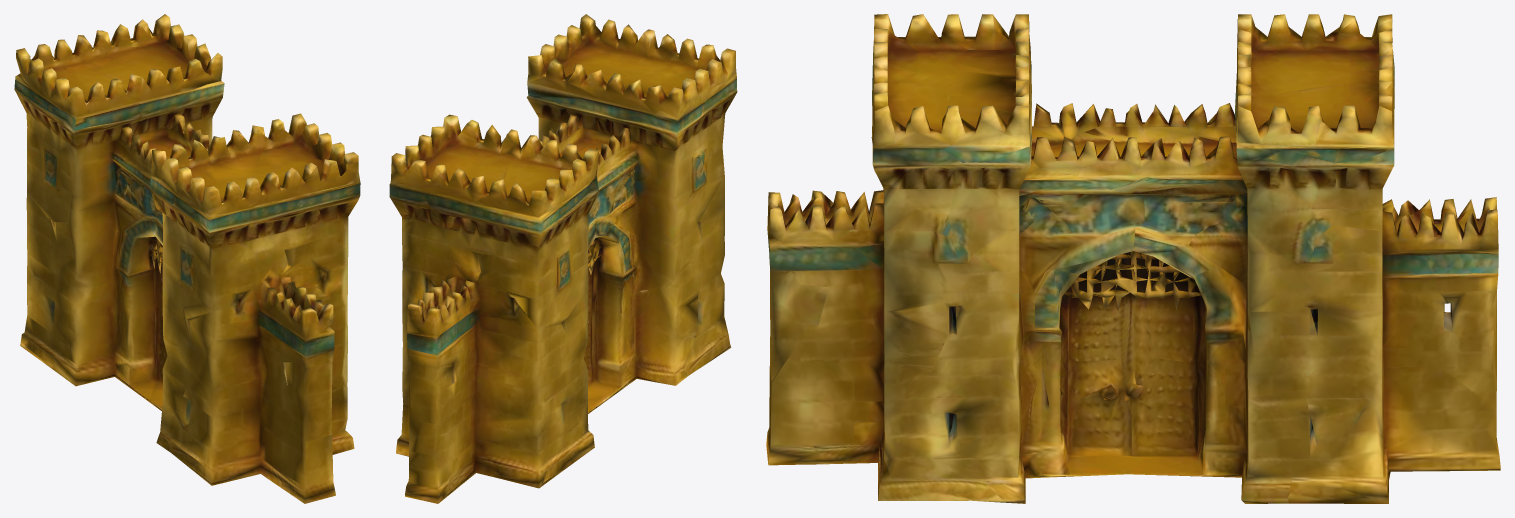
The model's file is castle_gate_gold.glb.
3 renders of one model, left to right at view 1: azimuth 30°, elevation 25°; view 2: azimuth 150°, elevation 25°; view 3: azimuth 270°, elevation 25°, orthographic. The views are drawn at different scales.
Parts seen in each view (by area): view 1: tripo_node_6839004b-7382-44ca-bf7b-c0f1d9af2ed8; view 2: tripo_node_6839004b-7382-44ca-bf7b-c0f1d9af2ed8; view 3: tripo_node_6839004b-7382-44ca-bf7b-c0f1d9af2ed8.
Part boxes in pixels (x1=…): tripo_node_6839004b-7382-44ca-bf7b-c0f1d9af2ed8: x1=14, y1=14, x2=360, y2=503; tripo_node_6839004b-7382-44ca-bf7b-c0f1d9af2ed8: x1=389, y1=14, x2=737, y2=503; tripo_node_6839004b-7382-44ca-bf7b-c0f1d9af2ed8: x1=766, y1=14, x2=1500, y2=503.
Size of the model in its own units: 0.3124 by 0.5831 by 0.9816.
1 material, 1 textured.
